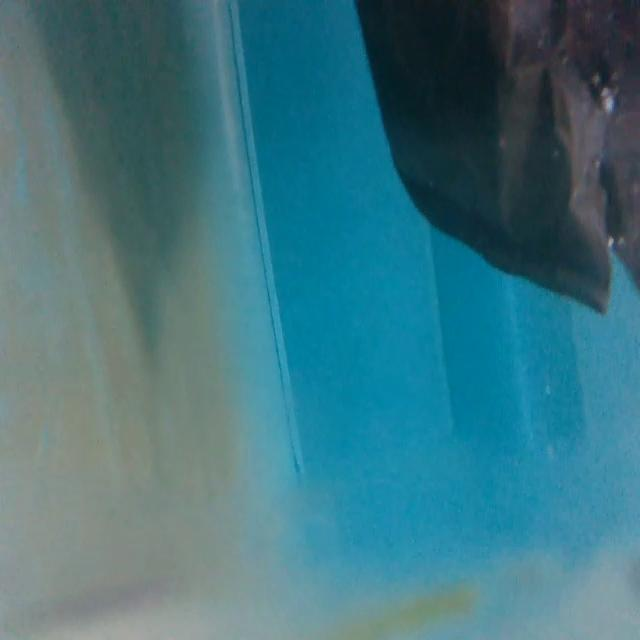plastic bags: (353, 0, 640, 320)
